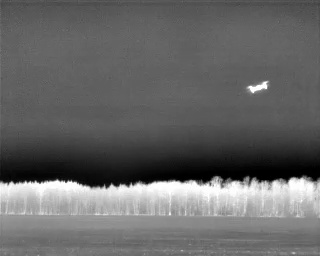DRONE: (243, 76, 273, 99)
